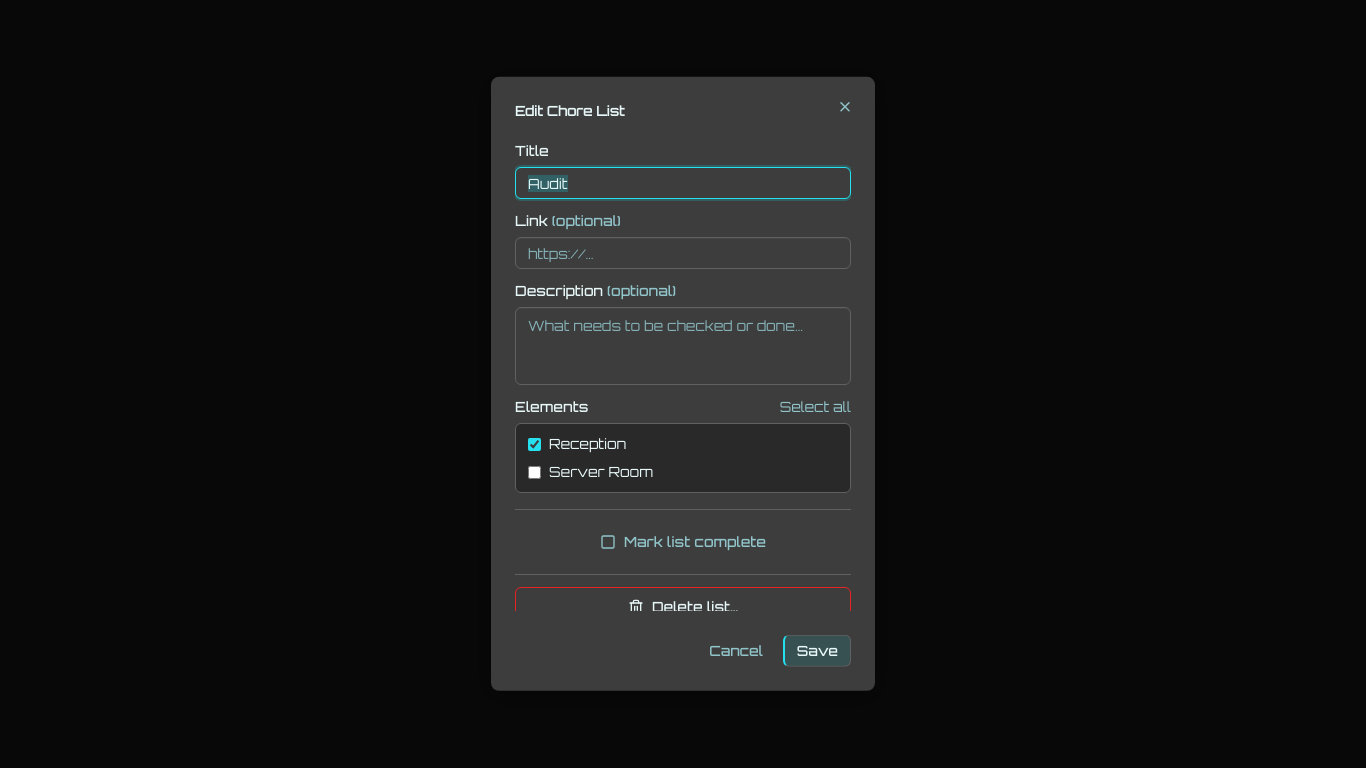
EditChoreListDialog – complete toggle › shows an error message when toggling fails
Click the button "Mark list complete" at (683, 542), box [515, 522, 851, 562]
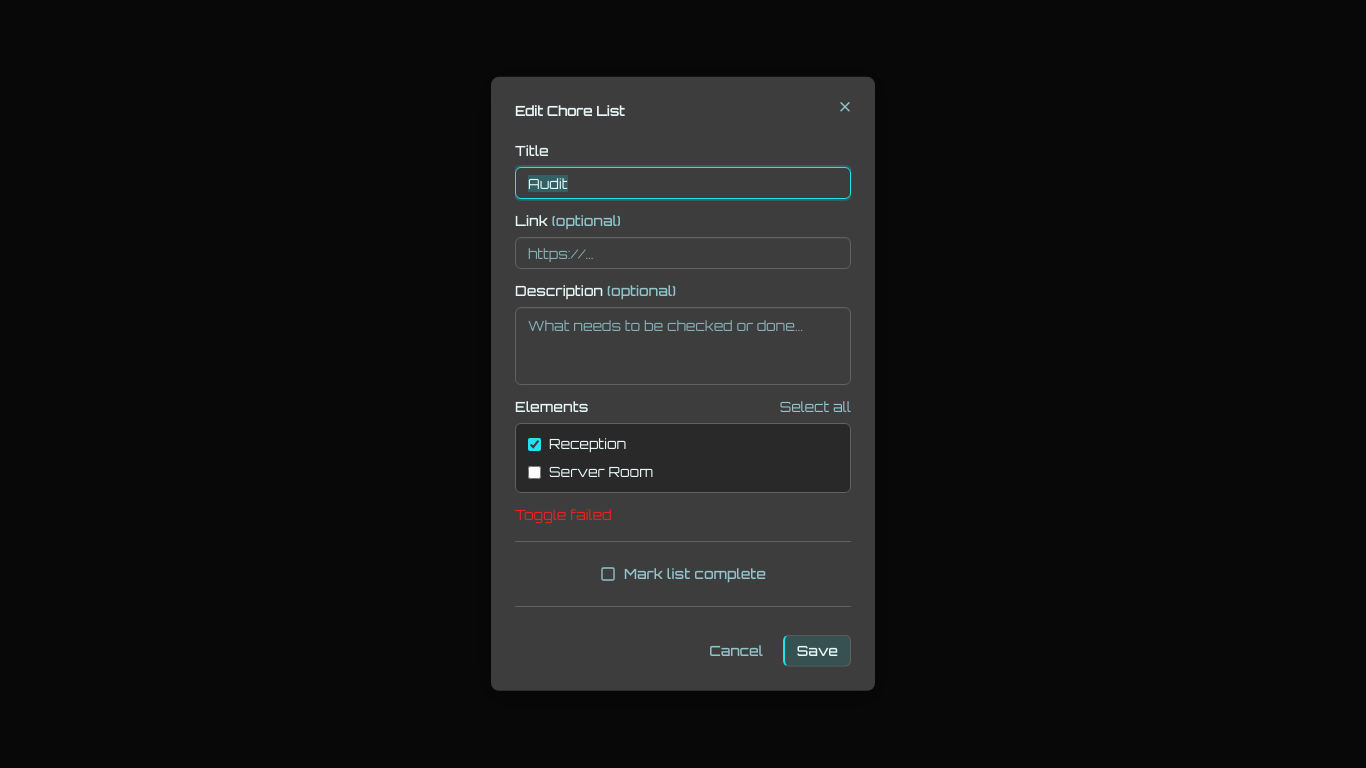
Expected: the text "Toggle failed" is shown, [515, 506, 612, 523]
